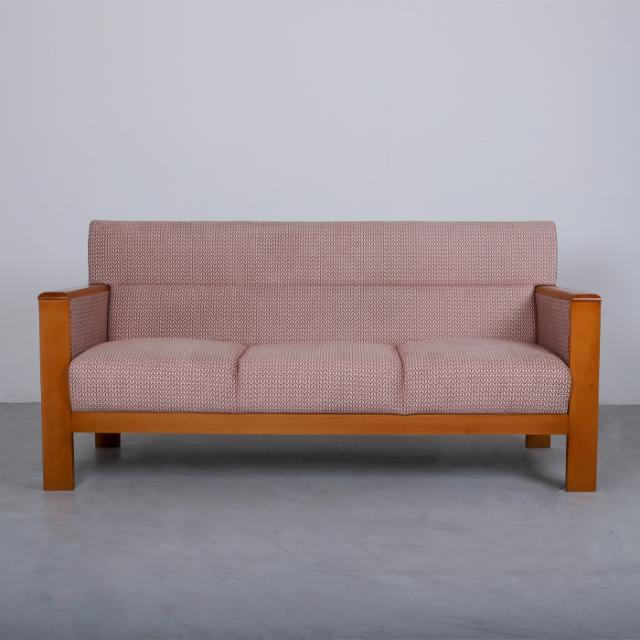sofa: (36, 218, 602, 494)
